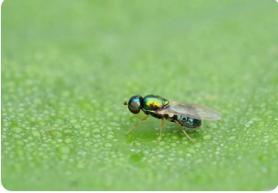liriomyza: (123, 93, 222, 145)
